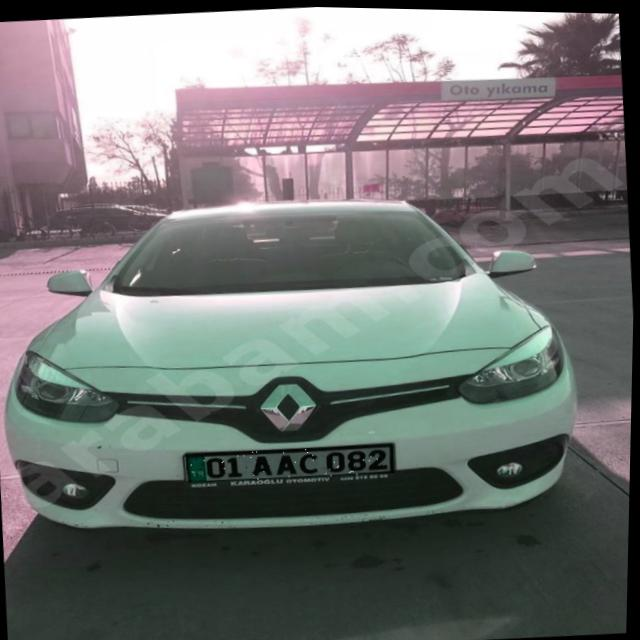license_plate: (186, 438, 397, 485)
